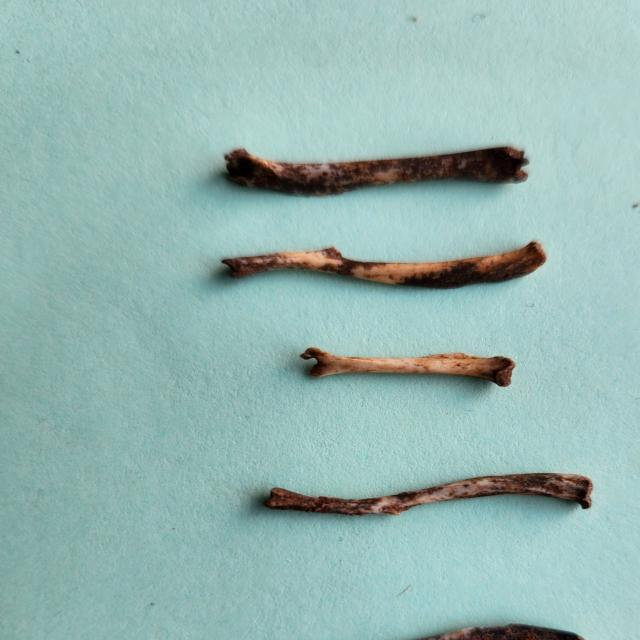fossil: (242, 456, 612, 536), (210, 226, 566, 308), (212, 131, 556, 207), (291, 334, 528, 398), (235, 608, 612, 640)
